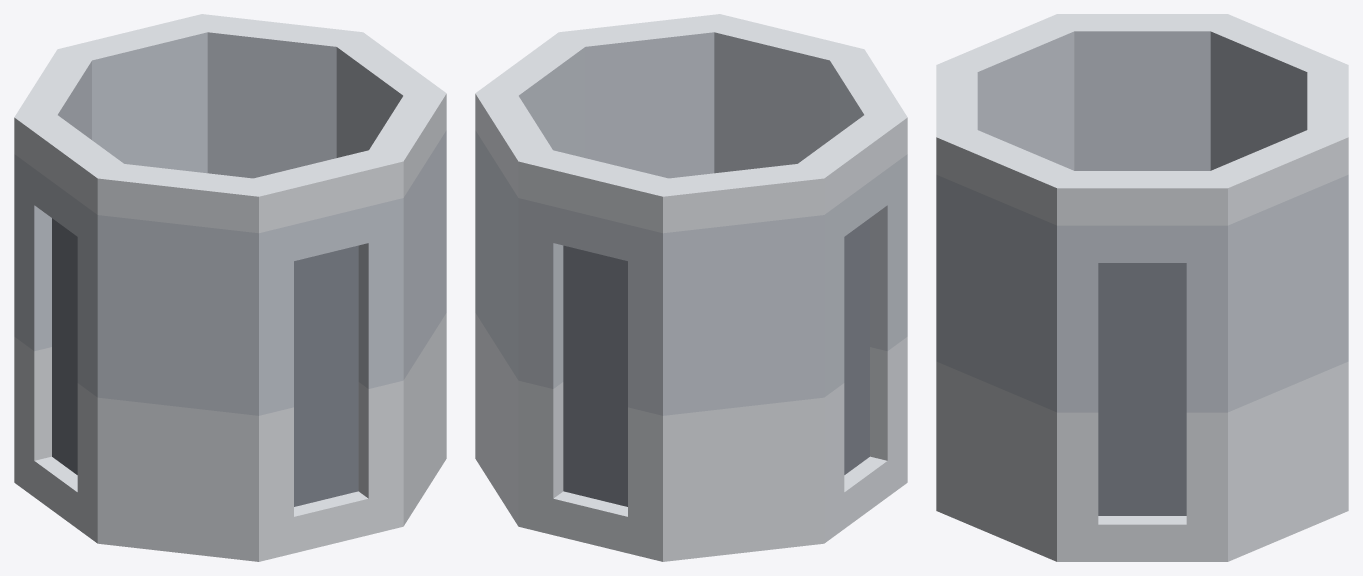
The model's file is rocket_sidesA.glb.
3 views of the same model, side by side, from view 1: azimuth 30°, elevation 25°; view 2: azimuth 150°, elevation 25°; view 3: azimuth 270°, elevation 25° (orthographic). The views are drawn at different scales.
Visible parts, largest first — view 1: rocket_sidesA; view 2: rocket_sidesA; view 3: rocket_sidesA.
Part boxes in pixels (bbox=[...]): rocket_sidesA: bbox=[14, 14, 446, 561]; rocket_sidesA: bbox=[475, 14, 907, 561]; rocket_sidesA: bbox=[936, 14, 1348, 561].
Bounding box in the file's own units: 1 × 1 × 1.
1 material, 1 textured.
